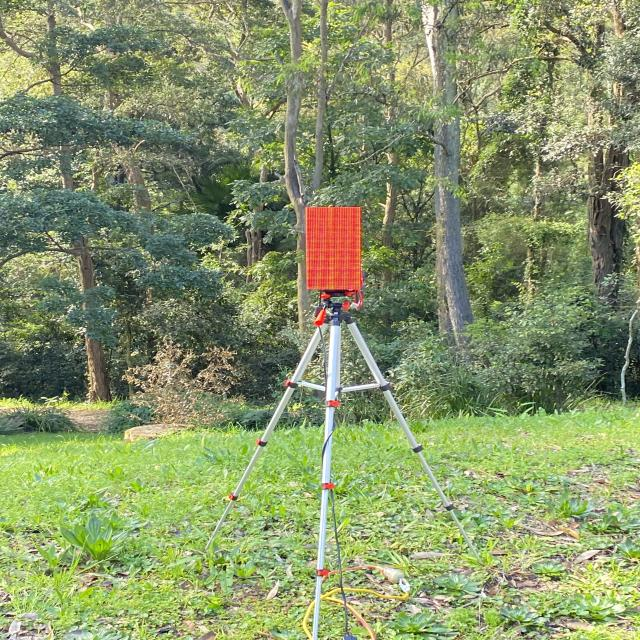matrix: (297, 198, 373, 298)
